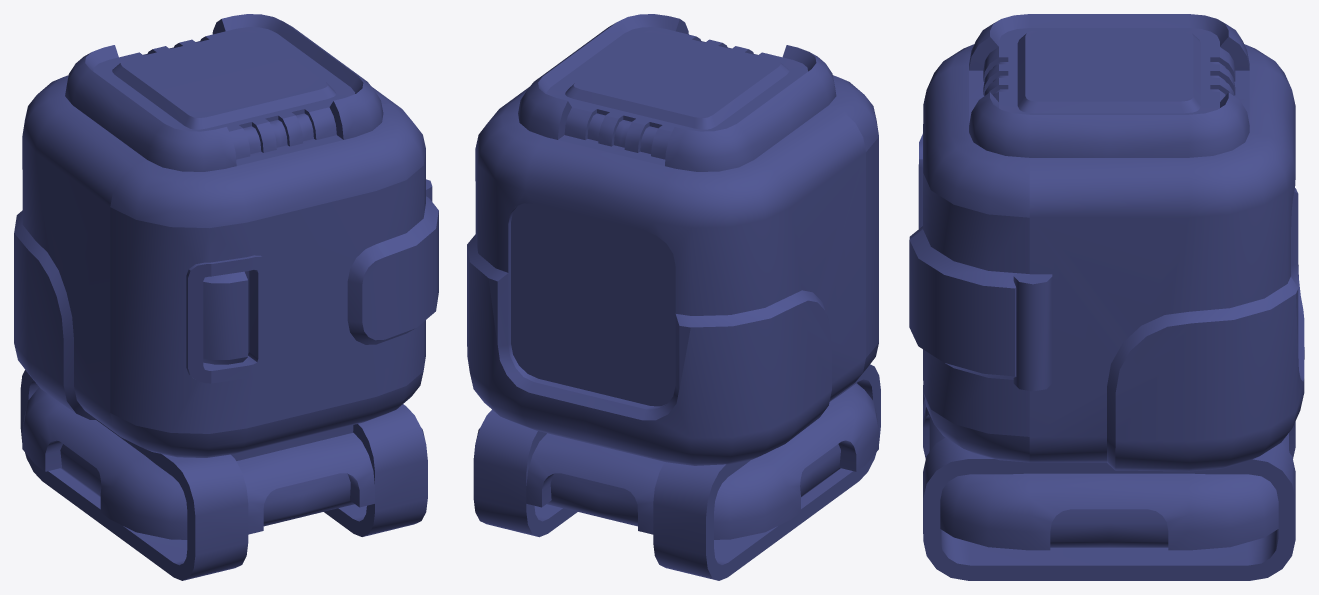
File: obj_interactive_freezer.fbx
The picture shows the model from 3 angles, left to right: view 1: azimuth 30°, elevation 25°; view 2: azimuth 150°, elevation 25°; view 3: azimuth 270°, elevation 25°; orthographic projection. The views are drawn at different scales.
Parts seen in each view (by area): view 1: part5_lp.002, part0_lp.001; view 2: part5_lp.002, part0_lp.001; view 3: part5_lp.002, part0_lp.001.
Boxes of the visible parts, x1,y1,x2,y2 form: part5_lp.002: [14, 14, 432, 580]; part0_lp.001: [110, 103, 438, 457]; part5_lp.002: [467, 14, 880, 580]; part0_lp.001: [701, 41, 878, 378]; part5_lp.002: [923, 14, 1304, 580]; part0_lp.001: [909, 44, 1029, 462].
Bounding box in the file's own units: 3.32 × 4.13 × 3.24.
